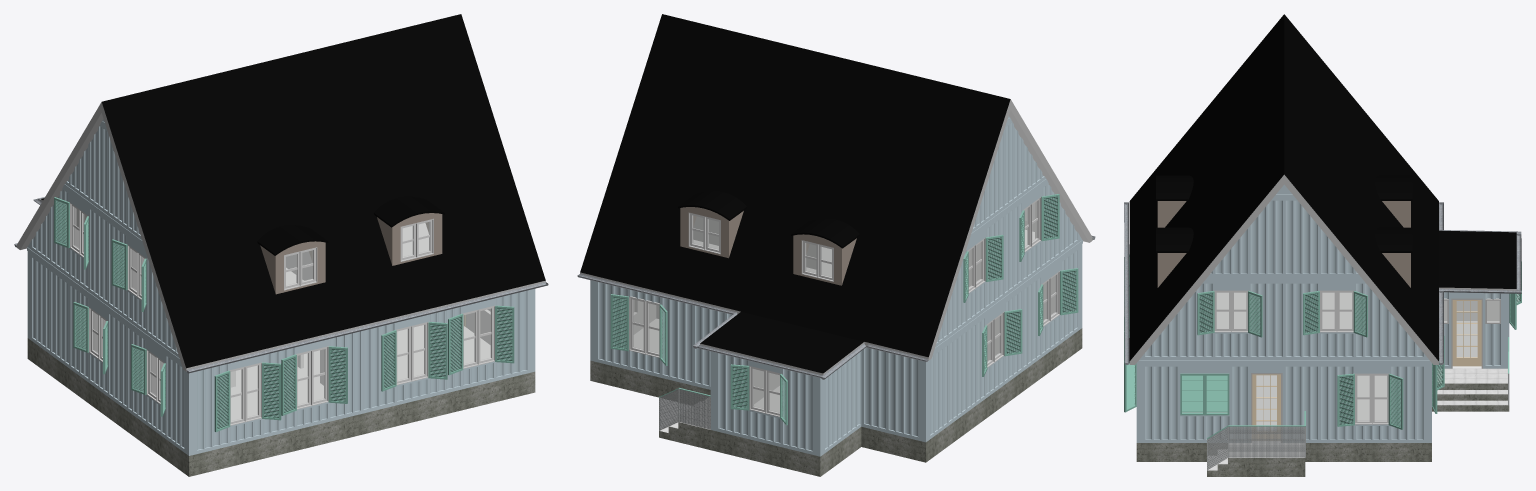
The model's file is manhaus.glb.
3 views of the same model, side by side, from view 1: azimuth 30°, elevation 25°; view 2: azimuth 150°, elevation 25°; view 3: azimuth 270°, elevation 25° (orthographic). The views are drawn at different scales.
Visible parts, largest first — view 1: Dach-001.001, Wand-012.006, RD-007.001, Wand-012.001, Wand-012.008, Wand-012.011, Dach-001, Fenster-002.1036, Fenster-002.1034, Fenster-002.1035, Fenster-002.1037, Stuhl-003.005 (+12 smaller); view 2: Dach-001, Wand-012.001, RD-007.001, Wand-012, Wand-012.008, Wand-012.003, Dach-002, Wand-012.005, Wand-012.002, Wand-012.011, Dach-001.001, Geländer-003 (+16 smaller); view 3: Dach-001.001, Dach-001, Wand-012.007, Wand-012.009, Wand-012.012, RD-007.001, Dach-002, Geländer-004, RD-007.008, Tür-002, Tür-002.001, Wand-012.004 (+18 smaller).
Part boxes in pixels (x1=…): Dach-001.001: x1=101, y1=14, x2=545, y2=371; Wand-012.006: x1=195, y1=289, x2=535, y2=454; RD-007.001: x1=27, y1=325, x2=535, y2=476; Wand-012.001: x1=27, y1=251, x2=195, y2=455; Wand-012.008: x1=28, y1=187, x2=179, y2=358; Wand-012.011: x1=65, y1=124, x2=141, y2=239; Dach-001: x1=17, y1=102, x2=103, y2=249; Fenster-002.1036: x1=396, y1=322, x2=428, y2=384; Fenster-002.1034: x1=229, y1=362, x2=261, y2=425; Fenster-002.1035: x1=296, y1=346, x2=328, y2=409; Fenster-002.1037: x1=462, y1=305, x2=494, y2=368; Stuhl-003.005: x1=186, y1=282, x2=548, y2=373; Dach-001: x1=580, y1=14, x2=1010, y2=360; Wand-012.001: x1=919, y1=244, x2=1082, y2=442; RD-007.001: x1=590, y1=318, x2=1082, y2=476; Wand-012: x1=590, y1=280, x2=761, y2=400; Wand-012.008: x1=935, y1=181, x2=1081, y2=347; Wand-012.003: x1=710, y1=351, x2=813, y2=454; Dach-002: x1=700, y1=311, x2=864, y2=375; Wand-012.005: x1=861, y1=347, x2=919, y2=440; Wand-012.002: x1=814, y1=351, x2=861, y2=456; Wand-012.011: x1=971, y1=120, x2=1045, y2=233; Dach-001.001: x1=1009, y1=99, x2=1092, y2=242; Geländer-003: x1=659, y1=388, x2=710, y2=430; Dach-001.001: x1=1129, y1=14, x2=1284, y2=364; Dach-001: x1=1284, y1=14, x2=1438, y2=364; Wand-012.007: x1=1143, y1=363, x2=1424, y2=442; Wand-012.009: x1=1139, y1=280, x2=1428, y2=359; Wand-012.012: x1=1208, y1=197, x2=1360, y2=277; RD-007.001: x1=1136, y1=321, x2=1481, y2=461; Dach-002: x1=1439, y1=230, x2=1516, y2=290; Geländer-004: x1=1207, y1=411, x2=1305, y2=470; RD-007.008: x1=1228, y1=443, x2=1305, y2=476; Tür-002: x1=1451, y1=298, x2=1482, y2=368; Tür-002.001: x1=1251, y1=373, x2=1282, y2=442; Wand-012.004: x1=1437, y1=292, x2=1502, y2=368.
Bounding box in the file's own units: 11.76 × 9.12 × 11.32.
Materials: 16 (6 with a texture image).
